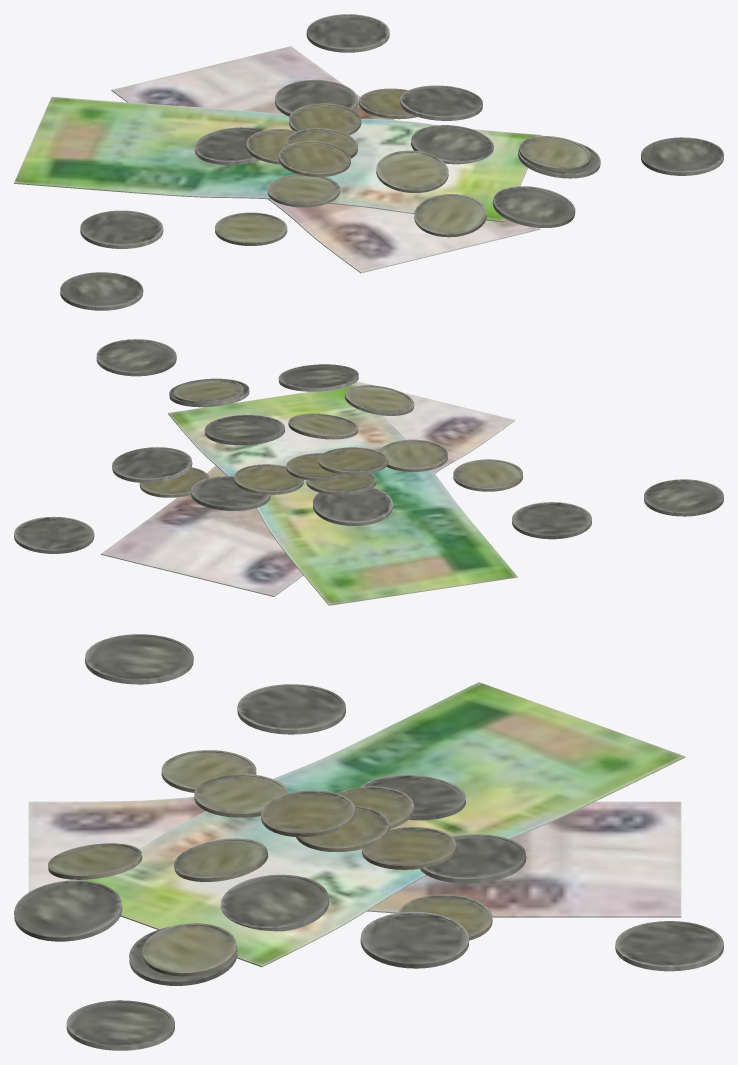
The model's file is dinheiro.glb.
The picture shows the model from 3 angles, top to bottom: view 1: azimuth 30°, elevation 25°; view 2: azimuth 150°, elevation 25°; view 3: azimuth 270°, elevation 25°; orthographic projection. The views are drawn at different scales.
Visible parts, largest first — view 1: Moneys; view 2: Moneys; view 3: Moneys.
Part boxes in pixels (x1,y1,x2,y2): Moneys: [14, 14, 723, 310]; Moneys: [14, 339, 723, 605]; Moneys: [14, 634, 723, 1050].
Bounding box in the file's own units: 719 × 26.79 × 523.
Materials: 1 (1 with a texture image).
